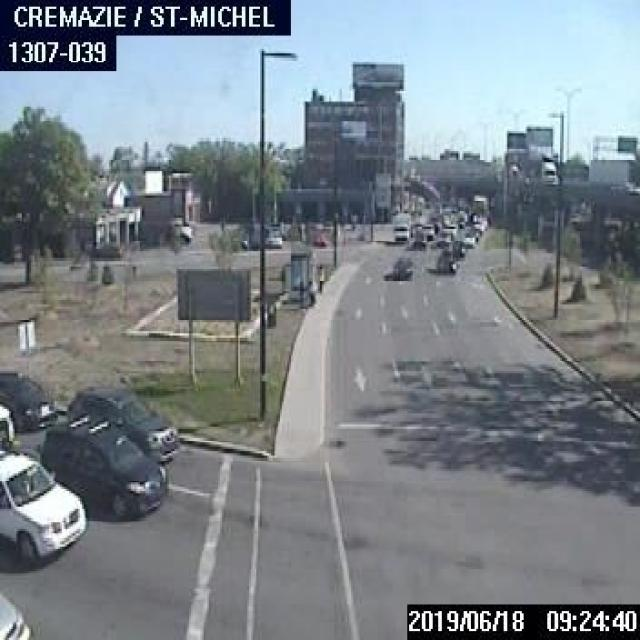pedestrian: (305, 274, 315, 304), (315, 262, 324, 290)
vehicle: (39, 412, 165, 519), (0, 449, 87, 560), (66, 383, 176, 464), (0, 369, 56, 431), (0, 586, 29, 638), (0, 402, 15, 456), (391, 211, 409, 241), (434, 250, 456, 274), (391, 254, 412, 278), (173, 215, 190, 242), (540, 159, 558, 183), (263, 226, 281, 246), (447, 237, 465, 255), (412, 229, 426, 248), (434, 228, 450, 244), (460, 230, 474, 246), (421, 222, 434, 237), (442, 222, 456, 235)
